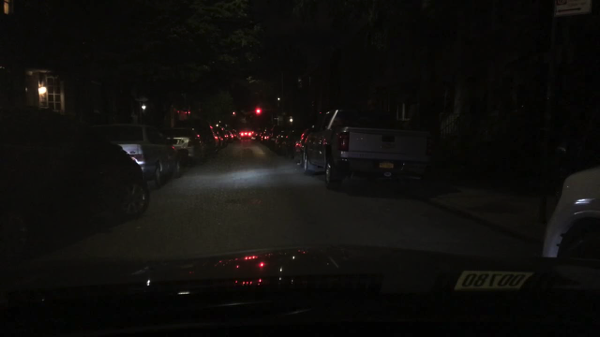car: (1, 104, 152, 252), (86, 122, 184, 191), (536, 166, 599, 264), (161, 126, 208, 168), (185, 119, 221, 157), (290, 126, 312, 163), (212, 125, 229, 150), (273, 128, 288, 155), (267, 125, 282, 148), (257, 126, 269, 143), (224, 129, 234, 143), (239, 130, 252, 139), (252, 131, 261, 140), (231, 129, 238, 140)
traffic light: (256, 108, 261, 114)
traffic sign: (552, 1, 591, 15)
truck: (301, 104, 435, 191)
